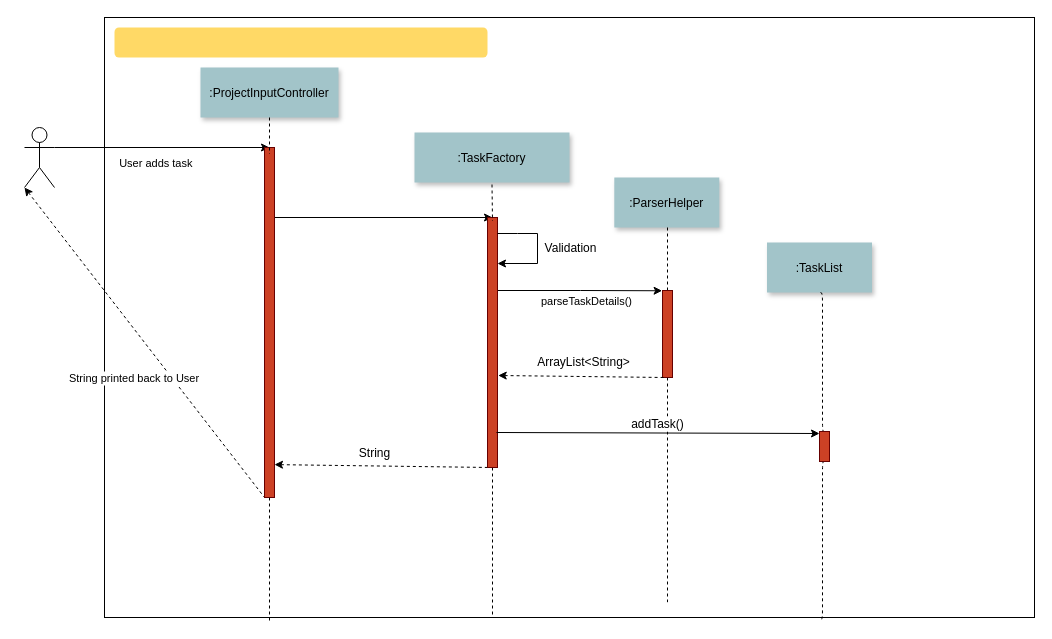
Image size: 1052x639. Some labels were removed from this diagram. The shapes that lost their labels are listed below. From the top down, each one's centre as x and y in pixels, then its label:
the point at 300,42: add task -t TASK_NAME -p TASK_PRIORITY -c TASK_CREDIT
the point at 39,157: Actor
